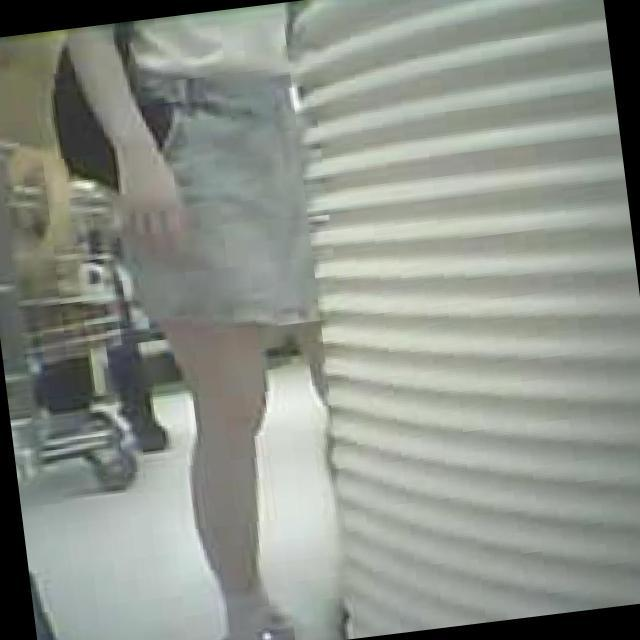person: (61, 0, 372, 640)
